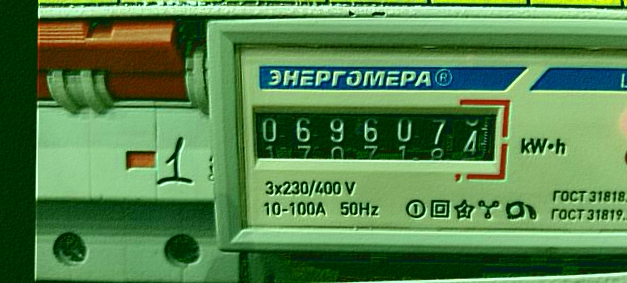0: (259, 115, 281, 144), (397, 114, 415, 143), (296, 116, 313, 142)
4: (462, 128, 480, 156)
6: (362, 114, 380, 144)
7: (429, 116, 448, 145)
9: (329, 115, 347, 144)
screen: (238, 92, 513, 180)
